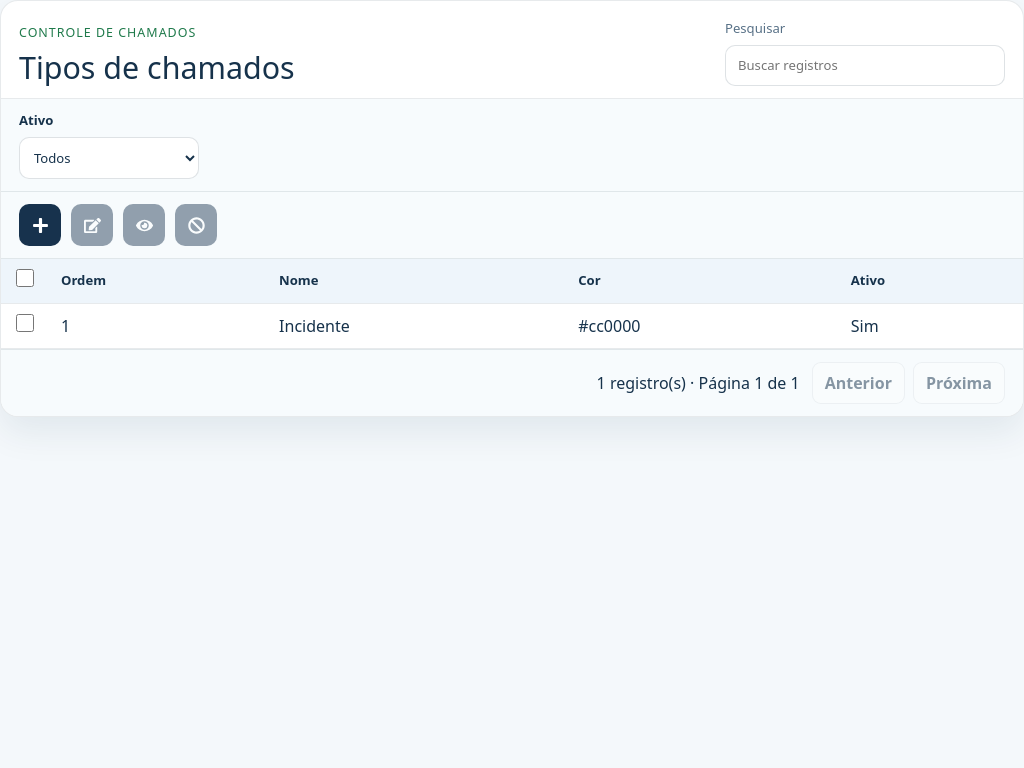
Test case: Configurações do Controle de Chamados › carrega, pesquisa e visualiza tipos em modo somente leitura
The width and height of the screenshot is (1024, 768).
expect the heading "Tipos de chamados" is shown: met, box 19,49 -> 295,85
Type "inexistente" into the search field labelled "Pesquisar". click: {"x": 865, "y": 66}
box: 725,45 -> 1005,86
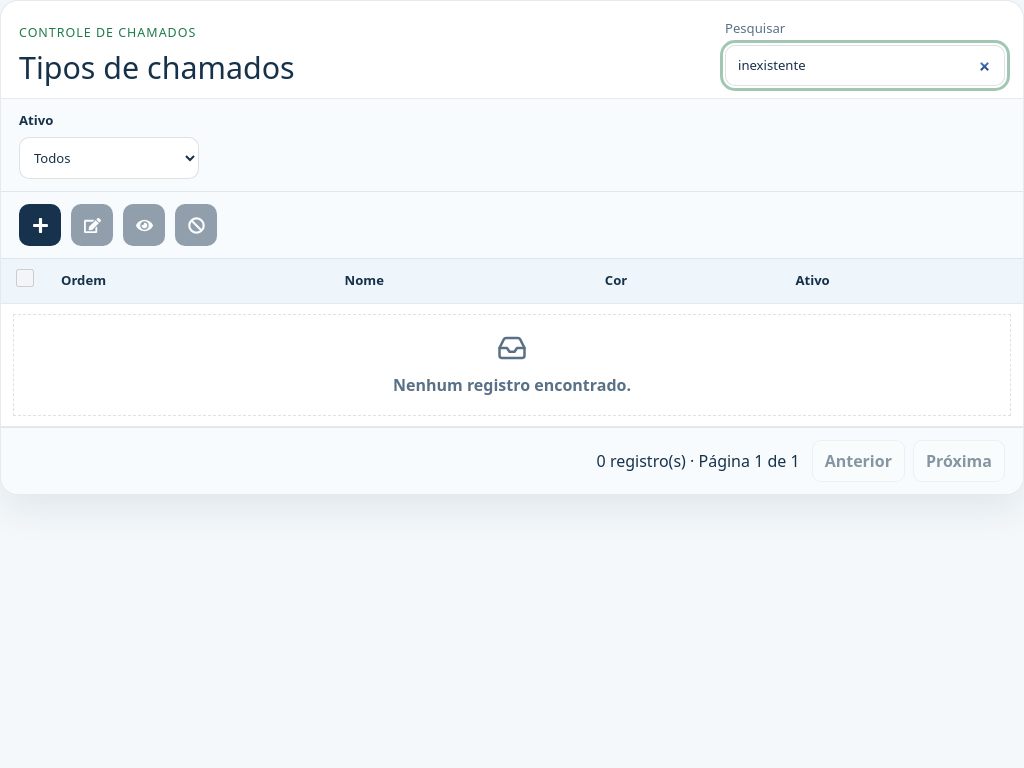
expect the cell "Incidente" is gone: met
Clear the search field labelled "Pesquisar". click: {"x": 865, "y": 66}
box: 725,45 -> 1005,86
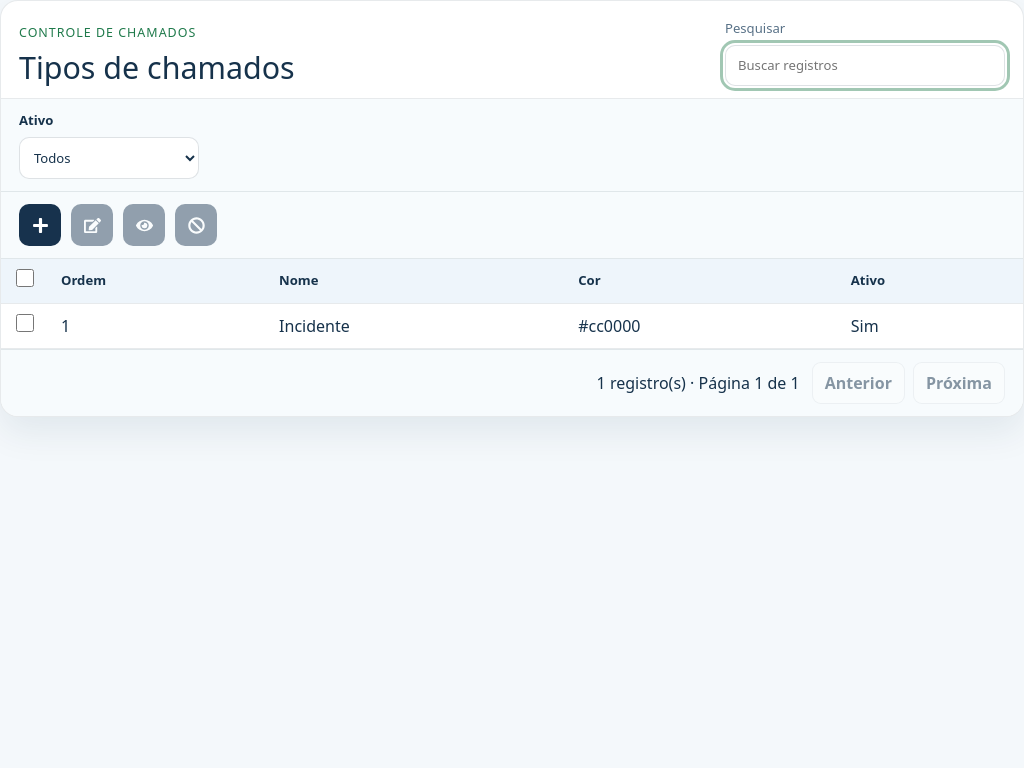
Click the cell "Incidente". click: {"x": 417, "y": 326}
box: 267,303 -> 566,348
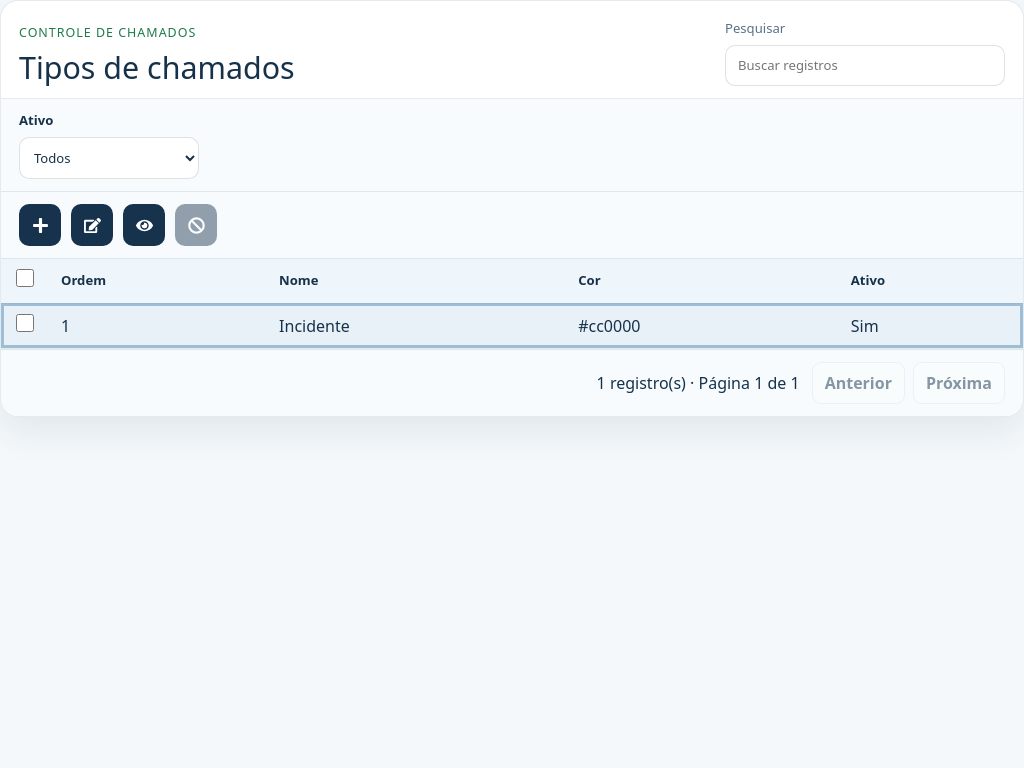
Click the button named "Visualizar". click: {"x": 144, "y": 225}
box: 123,204 -> 165,246
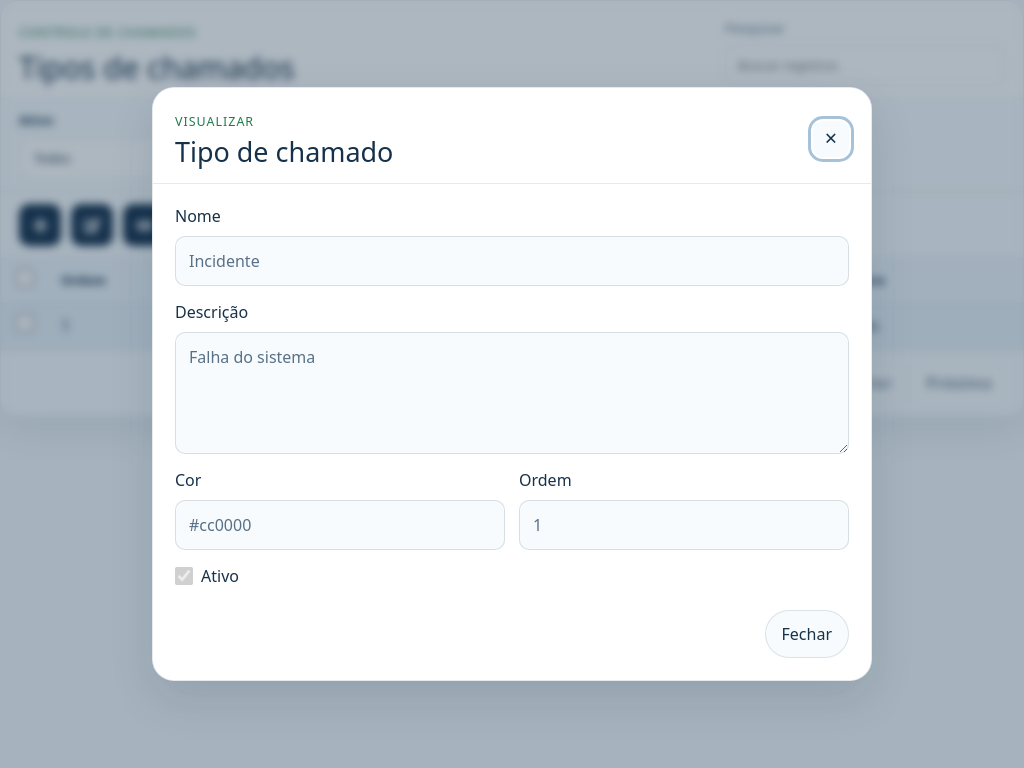
expect the field labelled "Nome" is disabled: met, box 175,236 -> 849,286
